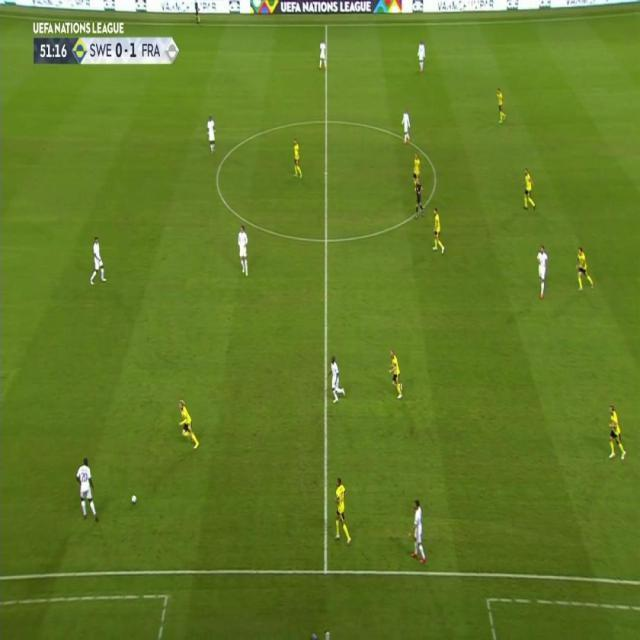ball: (131, 493, 138, 505)
player: (75, 454, 101, 522), (331, 475, 353, 544), (176, 397, 201, 451), (605, 402, 627, 462), (409, 498, 428, 563), (89, 235, 108, 287), (327, 354, 347, 403), (574, 244, 594, 292), (535, 243, 550, 300), (388, 349, 405, 399), (236, 223, 250, 277), (521, 167, 537, 212), (431, 206, 446, 254), (206, 114, 218, 155), (291, 137, 303, 178), (495, 84, 507, 123), (399, 108, 412, 144), (411, 153, 423, 191), (415, 40, 426, 72), (317, 38, 328, 70)
referee: (411, 178, 425, 221), (194, 1, 202, 24)
